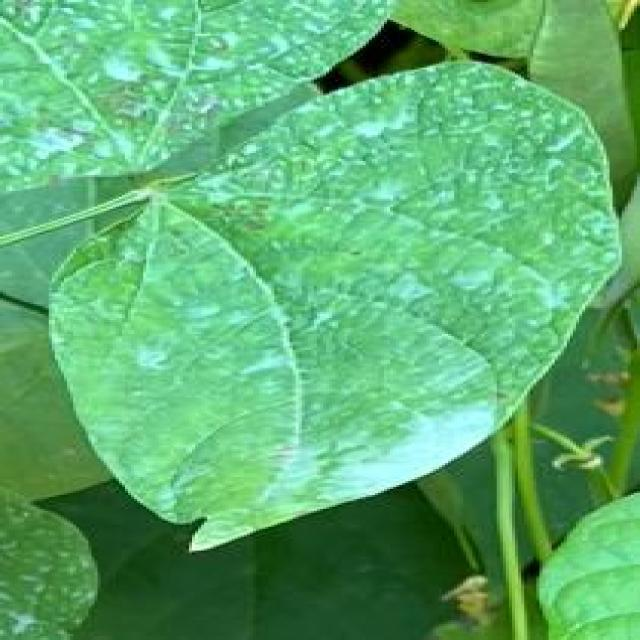embun tepung: (262, 415, 532, 527), (20, 38, 166, 172)
